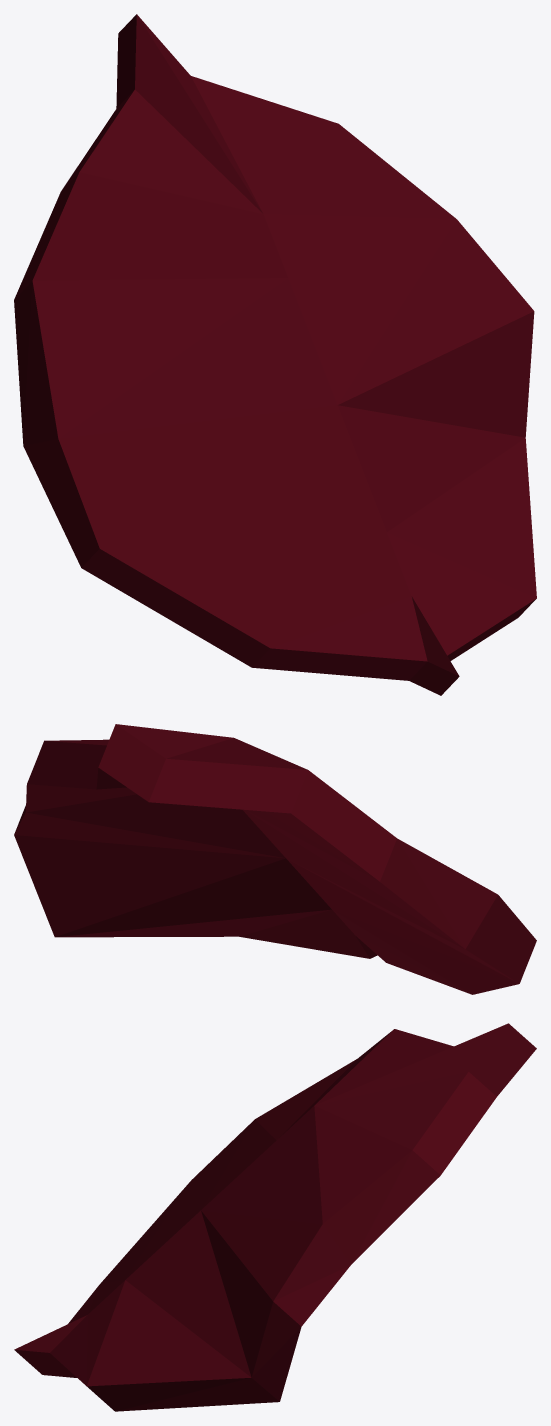
File: Lotus_Bullet.gltf
3 views of the same model, one above another, from view 1: azimuth 30°, elevation 25°; view 2: azimuth 150°, elevation 25°; view 3: azimuth 270°, elevation 25° (orthographic). The views are drawn at different scales.
Visible parts, largest first — view 1: 平面.004; view 2: 平面.004; view 3: 平面.004.
Boxes of the visible parts, x1,y1,x2,y2 form: 平面.004: (14,14,536,695); 平面.004: (14,724,536,994); 平面.004: (14,1023,536,1411).
Bounding box in the file's own units: 1.24 × 1.12 × 1.51.
